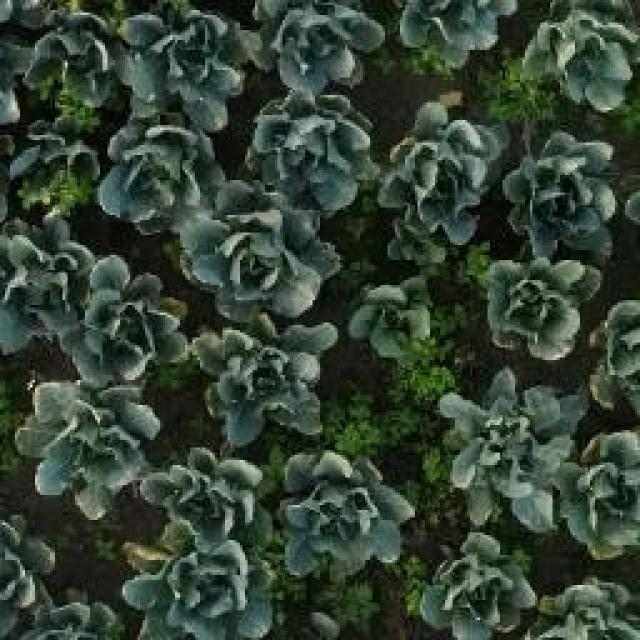cabbage: (181, 181, 344, 317), (436, 373, 571, 534), (192, 323, 338, 442), (27, 378, 156, 509), (121, 541, 285, 640), (285, 453, 417, 568), (384, 104, 492, 241), (124, 0, 251, 113), (254, 94, 370, 212), (473, 247, 585, 365), (102, 115, 212, 233), (0, 220, 107, 340), (422, 533, 540, 640), (143, 454, 272, 547), (69, 268, 182, 374), (0, 0, 109, 109), (505, 134, 612, 244), (524, 6, 631, 110), (258, 0, 382, 87), (345, 270, 449, 368), (574, 430, 640, 558), (3, 124, 101, 209), (392, 0, 512, 62)
